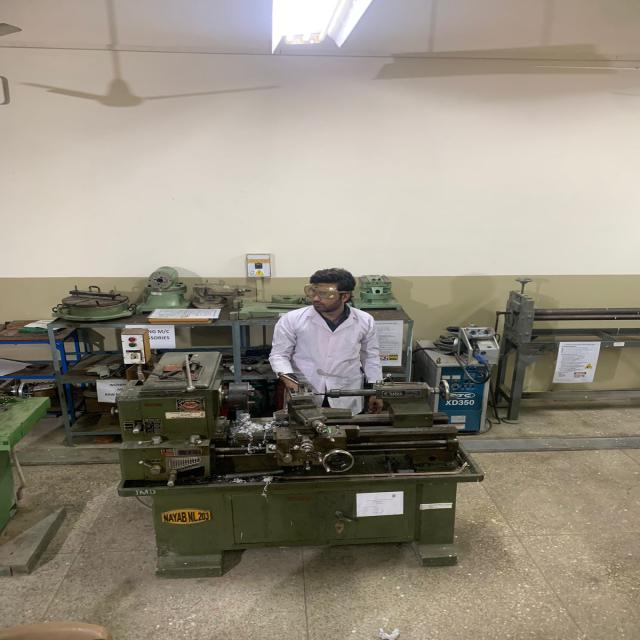googles: (302, 283, 340, 300)
labcoat: (268, 303, 386, 416)
